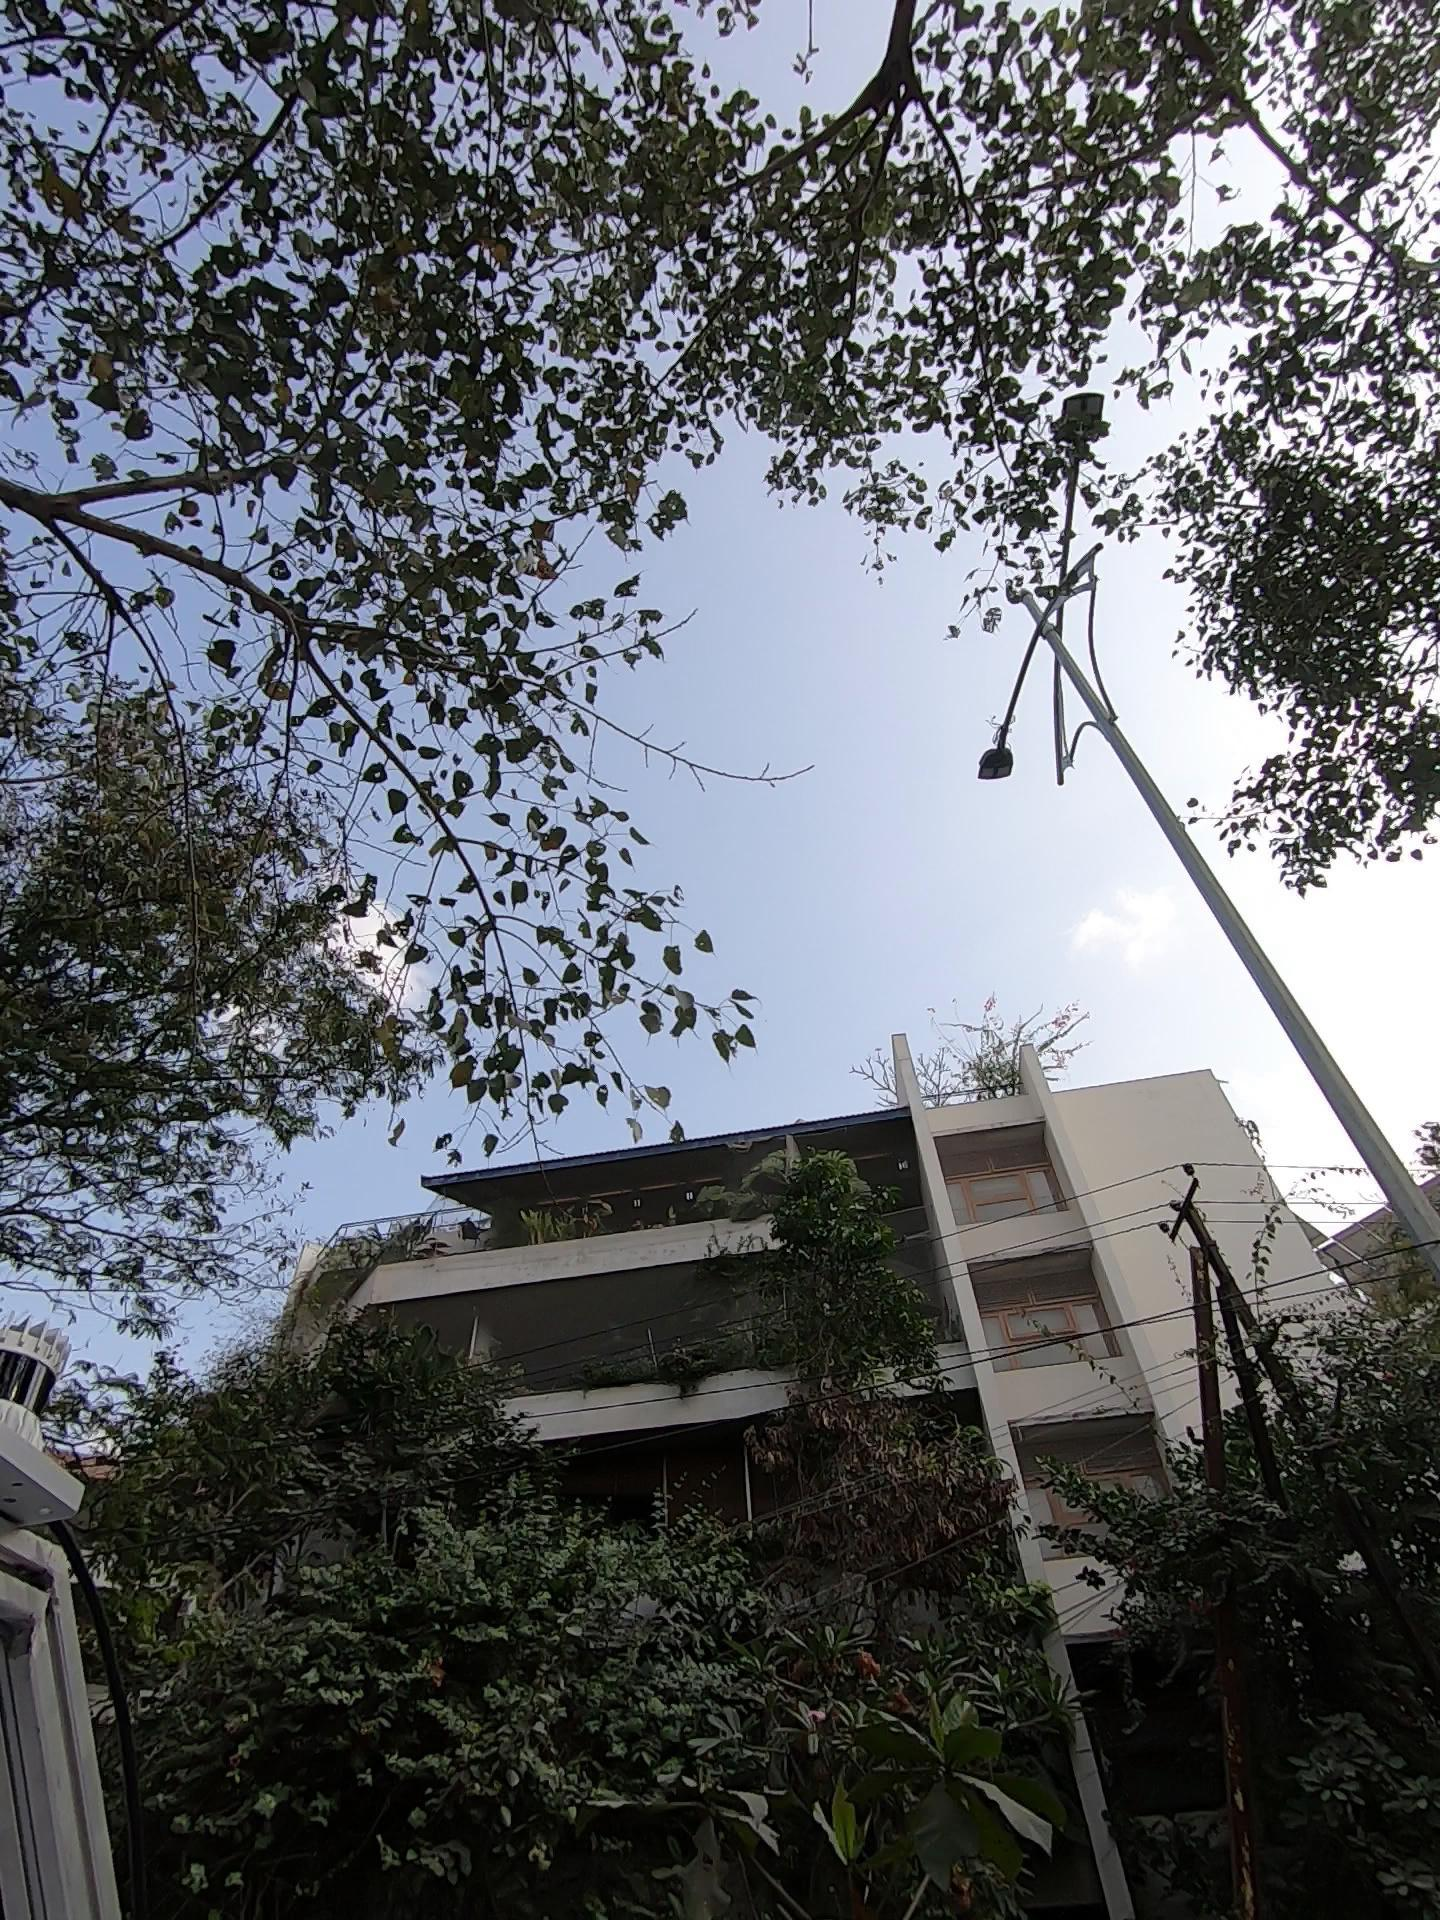off: (911, 346, 1159, 827)
